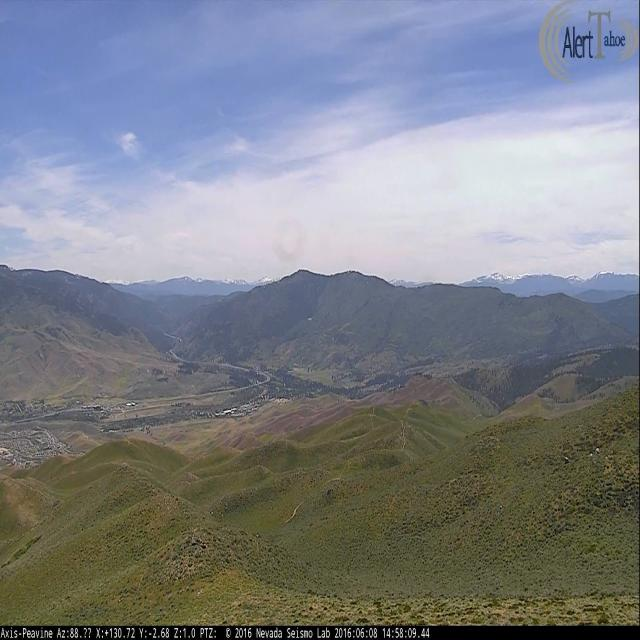smoke: (519, 289, 525, 296)
